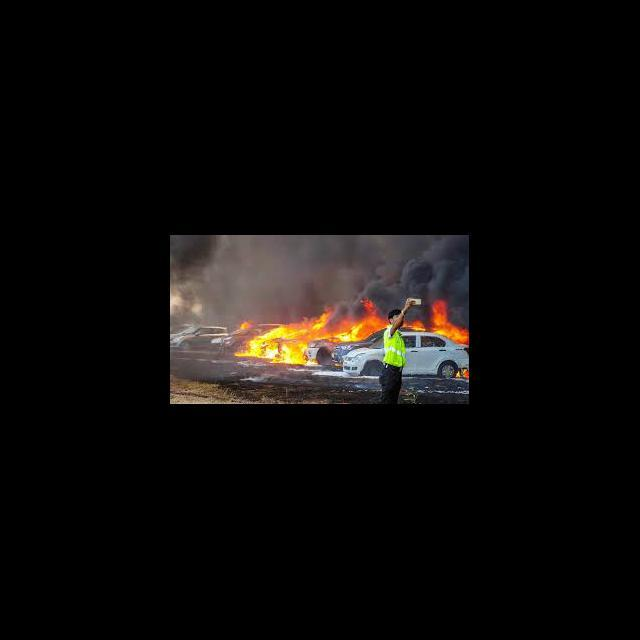Fire: (240, 316, 309, 366), (432, 298, 469, 344), (339, 310, 379, 343), (311, 304, 334, 339), (407, 320, 428, 331), (362, 298, 376, 309), (456, 368, 468, 378)
Smoke: (170, 235, 470, 298), (173, 298, 239, 323), (240, 298, 308, 316)
